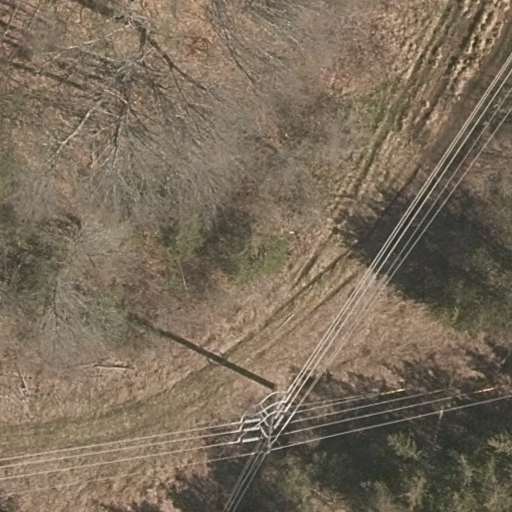DT: (237, 391, 290, 452)
